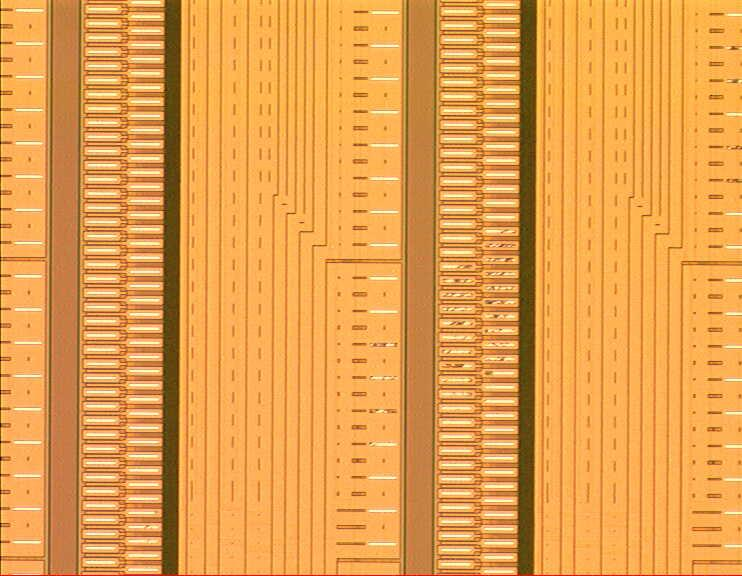BLOCK ETCH: (367, 216, 522, 462)
